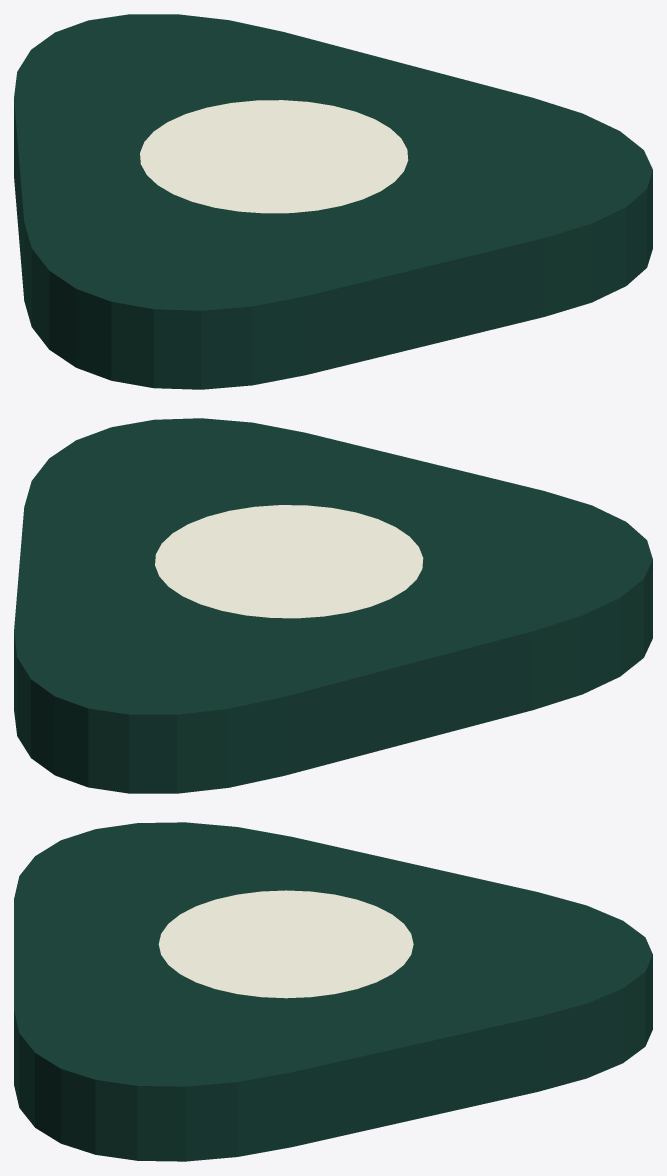
Rendered from piedra.obj.
The picture shows the model from 3 angles, top to bottom: view 1: azimuth 30°, elevation 25°; view 2: azimuth 150°, elevation 25°; view 3: azimuth 270°, elevation 25°; orthographic projection. The views are drawn at different scales.
Visible parts, largest first — view 1: Circle.004_Circle.025; view 2: Circle.004_Circle.025; view 3: Circle.004_Circle.025.
Part boxes in pixels (left/top/right/bottom): Circle.004_Circle.025: left=14, top=14, right=652, bottom=389; Circle.004_Circle.025: left=14, top=418, right=652, bottom=793; Circle.004_Circle.025: left=14, top=822, right=652, bottom=1161.
Size of the model in its own units: 0.0245 by 0.00393 by 0.025.
2 materials, 2 textured.
